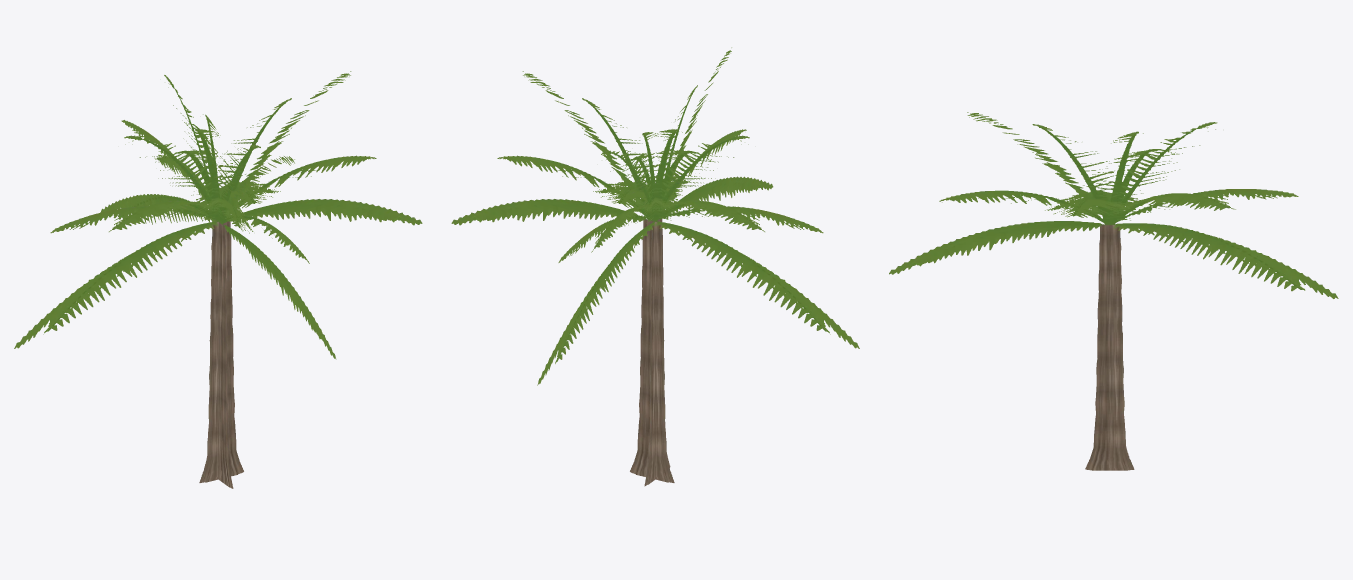
File: palm_young_far.glb
3 views of the same model, side by side, from view 1: azimuth 30°, elevation 25°; view 2: azimuth 150°, elevation 25°; view 3: azimuth 270°, elevation 25° (orthographic). The views are drawn at different scales.
Visible parts, largest first — view 1: impostor; view 2: impostor; view 3: impostor.
Boxes of the visible parts, left/top/right/bottom form: impostor: left=14, top=71, right=422, bottom=488; impostor: left=451, top=47, right=859, bottom=486; impostor: left=889, top=112, right=1338, bottom=470.
Size of the model in its own units: 4.34 by 3.84 by 4.34.
Materials: 1 (1 with a texture image).
